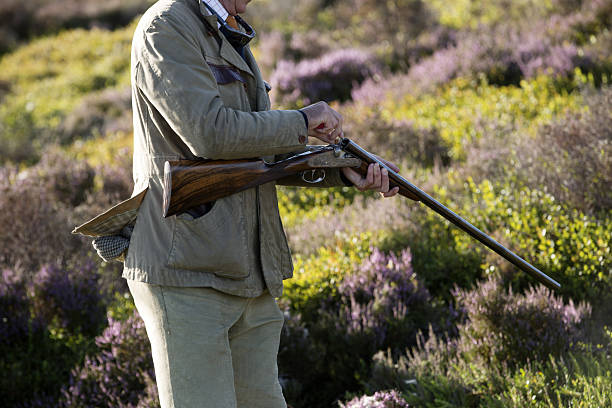shotgun: (164, 142, 575, 305)
